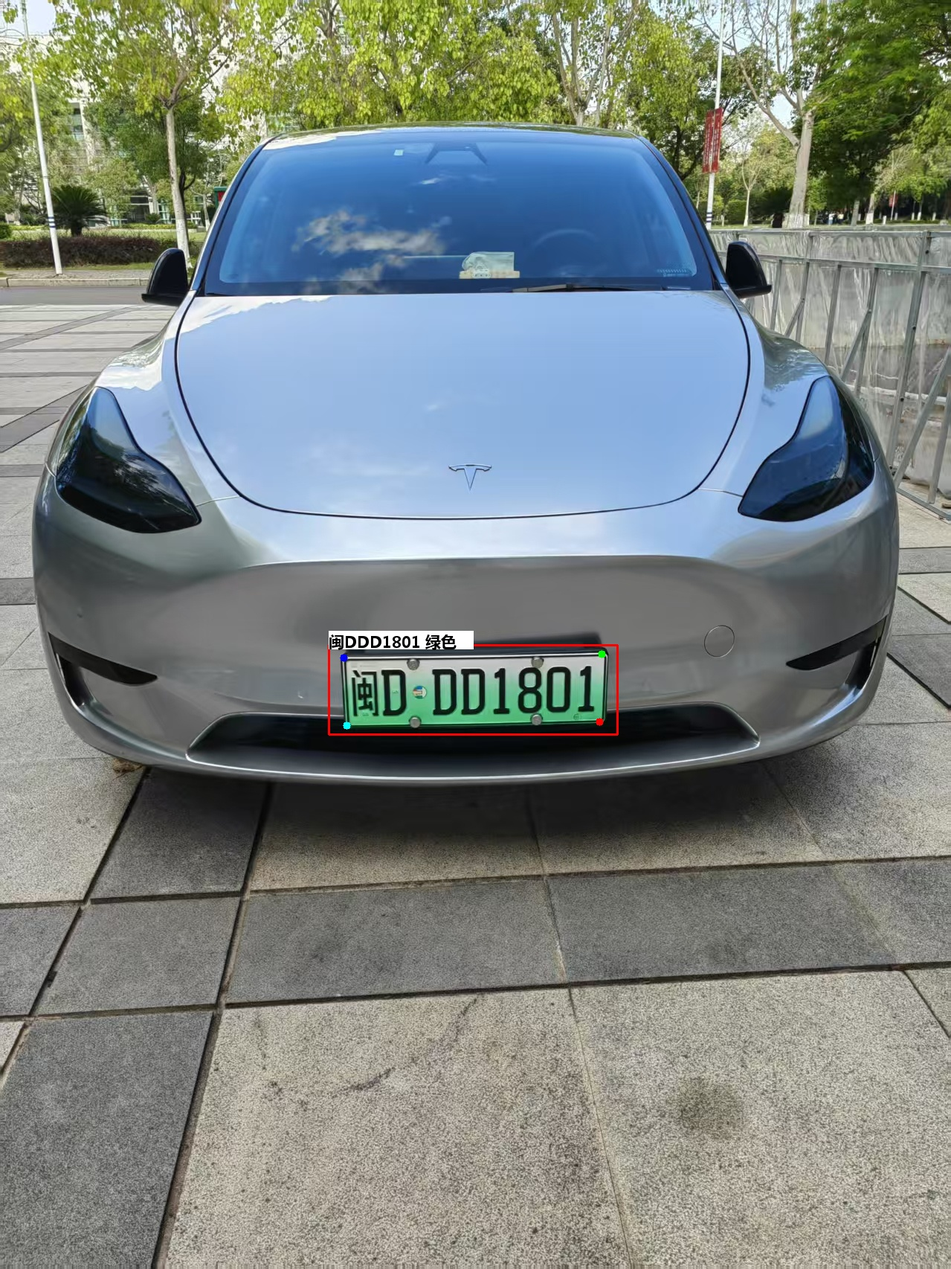plate: (363, 750, 639, 827)
